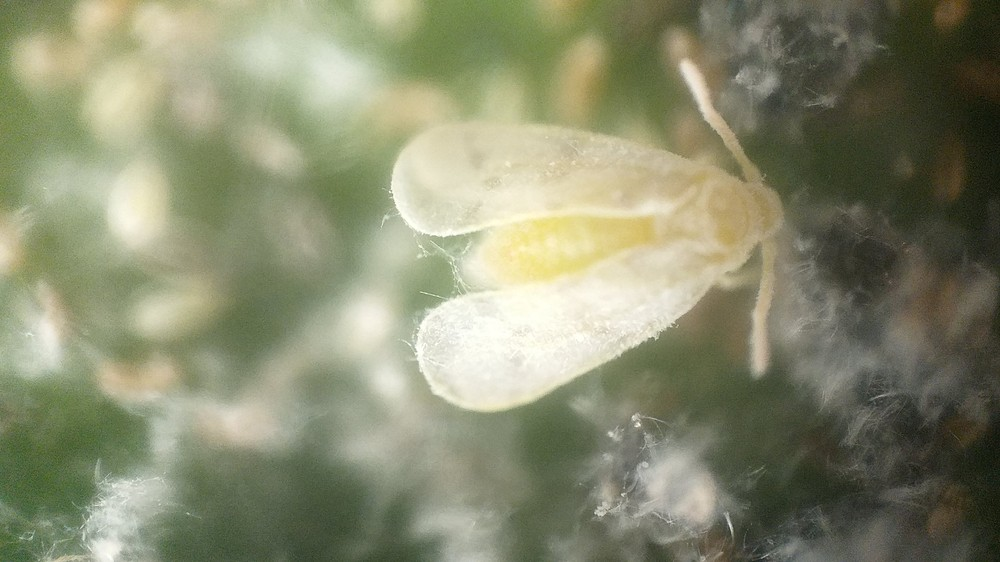Mosca Blanca: (373, 48, 817, 432)
